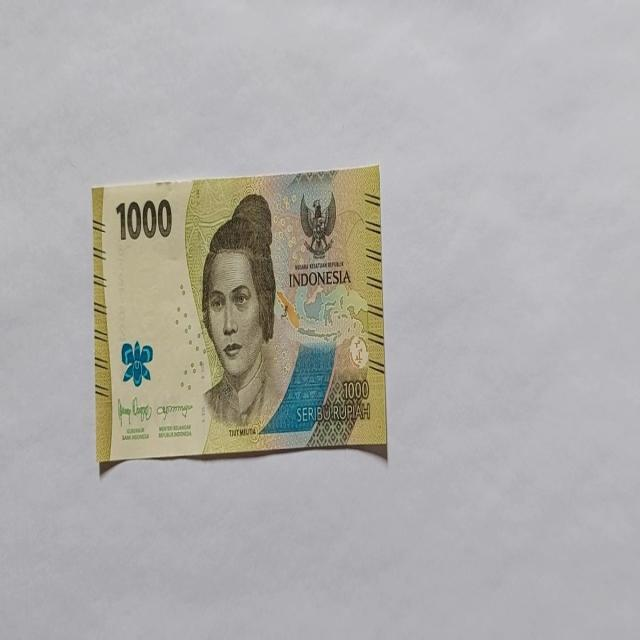seribu rupiah kertas: (91, 165, 387, 466)
